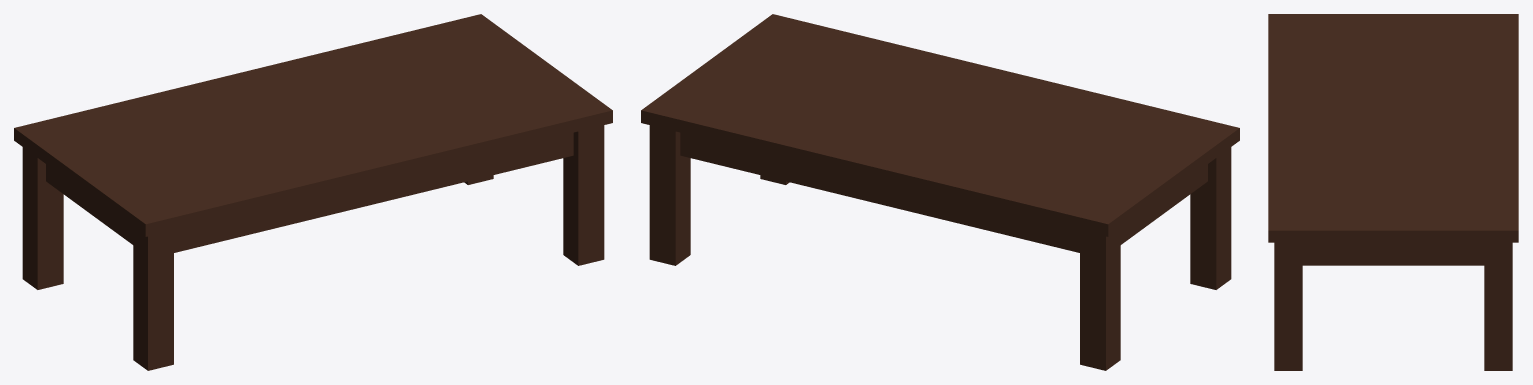
The model's file is coffeetable.fbx.
3 renders of one model, left to right at view 1: azimuth 30°, elevation 25°; view 2: azimuth 150°, elevation 25°; view 3: azimuth 270°, elevation 25°, orthographic. The views are drawn at different scales.
Parts seen in each view (by area): view 1: coffee_table; view 2: coffee_table; view 3: coffee_table.
Part boxes in pixels (bbox=[...]): coffee_table: bbox=[14, 14, 612, 370]; coffee_table: bbox=[641, 14, 1239, 370]; coffee_table: bbox=[1268, 14, 1518, 370].
Bounding box in the file's own units: 38 × 11.69 × 18.55.
1 material, 1 textured.
